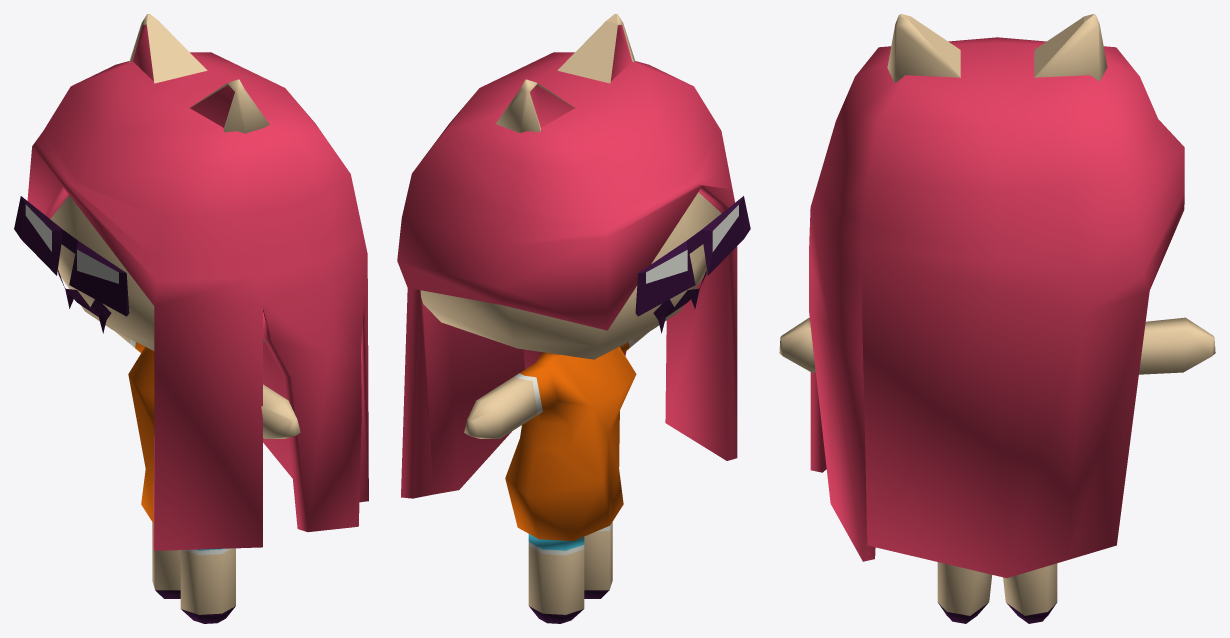
File: lotte.gltf
3 views of the same model, side by side, from view 1: azimuth 30°, elevation 25°; view 2: azimuth 150°, elevation 25°; view 3: azimuth 270°, elevation 25° (orthographic). The views are drawn at different scales.
Parts seen in each view (by area): view 1: Hair, Body; view 2: Hair, Body; view 3: Hair, Body.
Boxes of the visible parts, <box> form: Hair: <box>27,52,368,550</box>; Body: <box>14,14,300,623</box>; Hair: <box>397,52,737,498</box>; Body: <box>420,14,750,623</box>; Hair: <box>809,37,1184,577</box>; Body: <box>779,14,1215,623</box>.
Size of the model in its own units: 0.8823 by 1.74 by 1.14.
